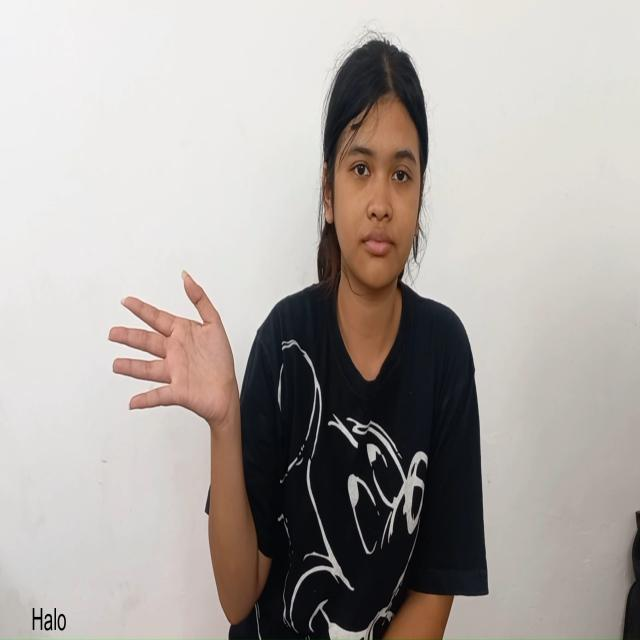Halo -BISINDO-: (101, 256, 244, 449)
